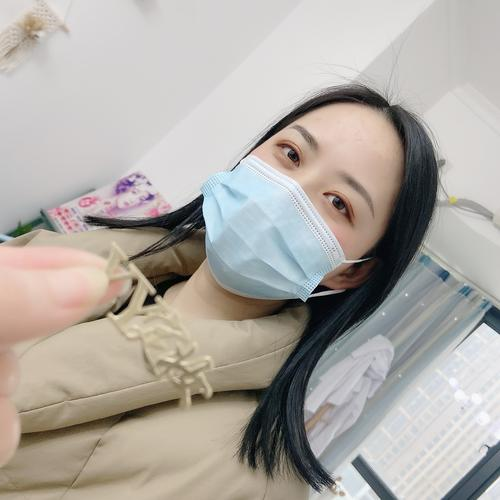mask: (200, 87, 404, 301)
